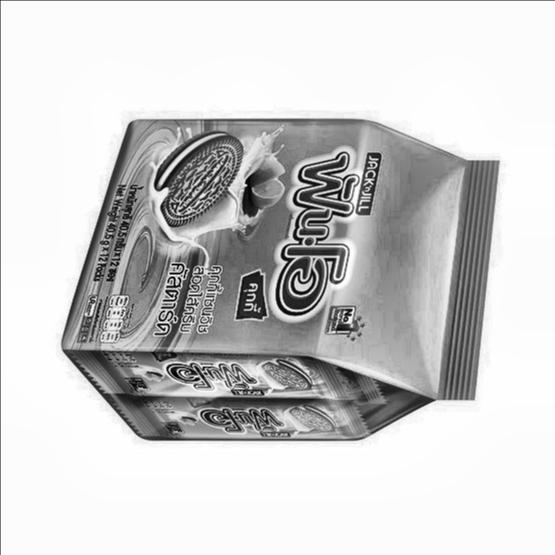snackbag: (53, 76, 524, 494)
